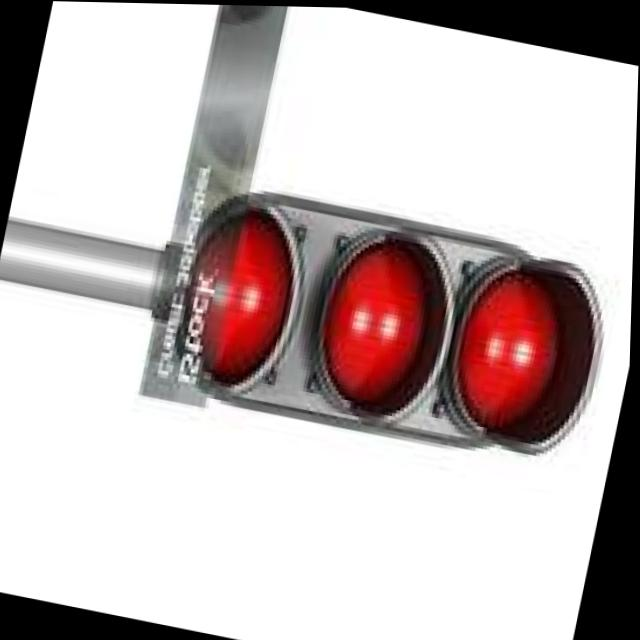red_light: (439, 241, 635, 470)
